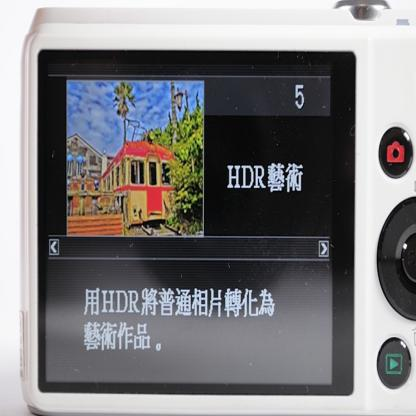Camera: (23, 1, 416, 416)
